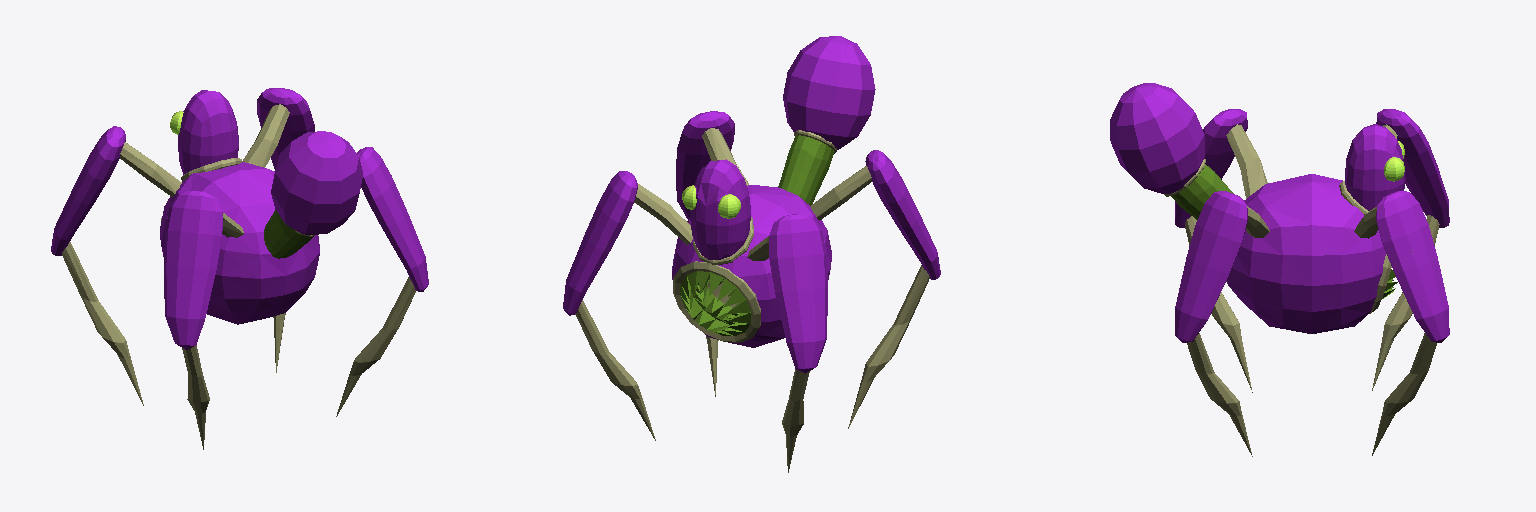
3 views of the same model, side by side, from view 1: azimuth 30°, elevation 25°; view 2: azimuth 150°, elevation 25°; view 3: azimuth 270°, elevation 25° (orthographic).
Visible parts, largest first — view 1: Cube_Cube.001; view 2: Cube_Cube.001; view 3: Cube_Cube.001.
Boxes of the visible parts, x1,y1,x2,y2 form: Cube_Cube.001: [51, 88, 428, 449]; Cube_Cube.001: [563, 36, 940, 472]; Cube_Cube.001: [1110, 83, 1449, 456].
Size of the model in its own units: 3.66 by 4.6 by 4.17.
Materials: 1 (1 with a texture image).